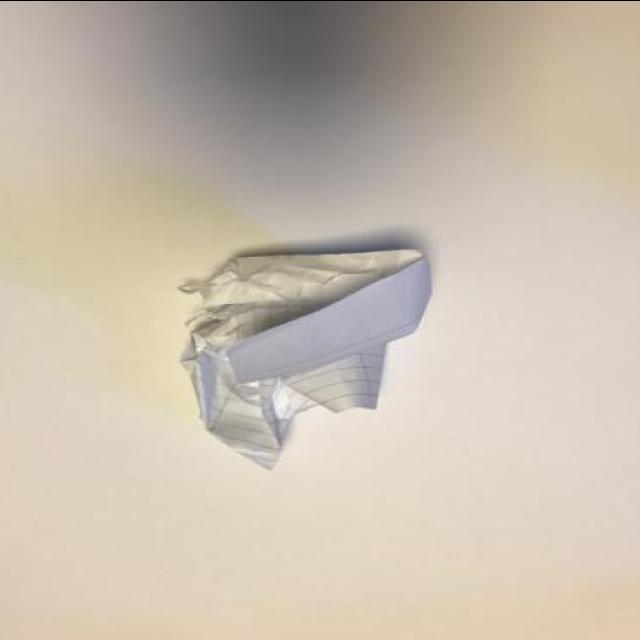kertas: (177, 249, 433, 471)
